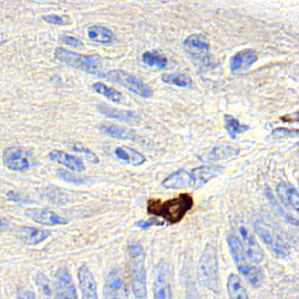Lymphocyte: (146, 192, 194, 223)
